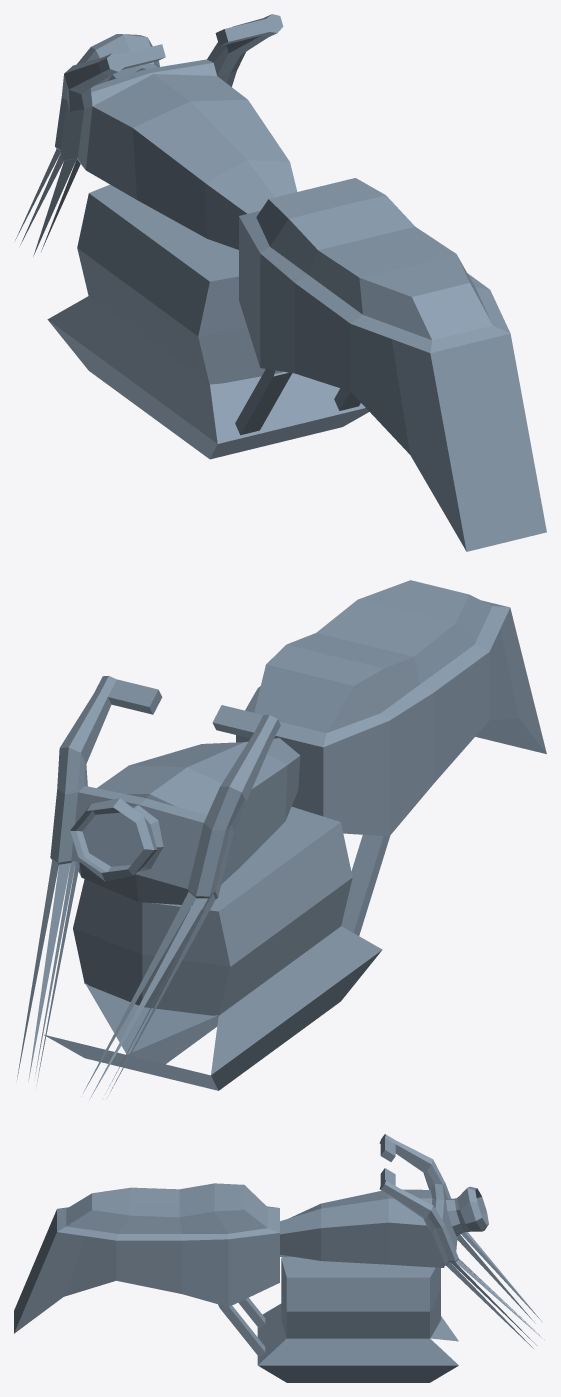
File: motorcycle.glb
3 views of the same model, one above another, from view 1: azimuth 30°, elevation 25°; view 2: azimuth 150°, elevation 25°; view 3: azimuth 270°, elevation 25° (orthographic). The views are drawn at different scales.
Parts seen in each view (by area): view 1: body (×2); view 2: body (×3); view 3: body (×2).
Part boxes in pixels (x1,y1,x2,y2): body (×2): (15, 14, 546, 551); body (×3): (17, 580, 546, 1099); body (×2): (14, 1134, 544, 1382).
Bounding box in the file's own units: 0.2081 × 0.3839 × 0.8993.
